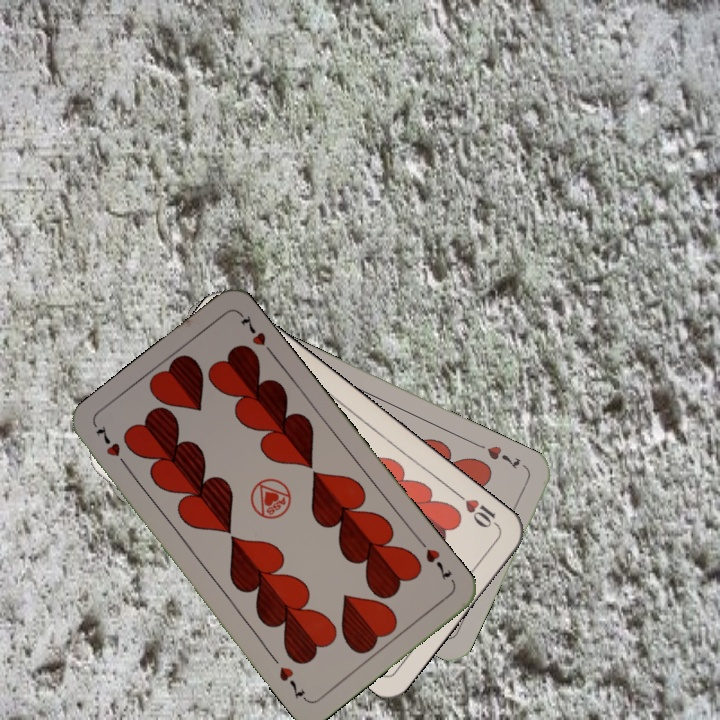H10: (452, 488, 502, 531)
H7: (91, 422, 133, 472), (415, 535, 454, 584), (473, 439, 524, 472)
